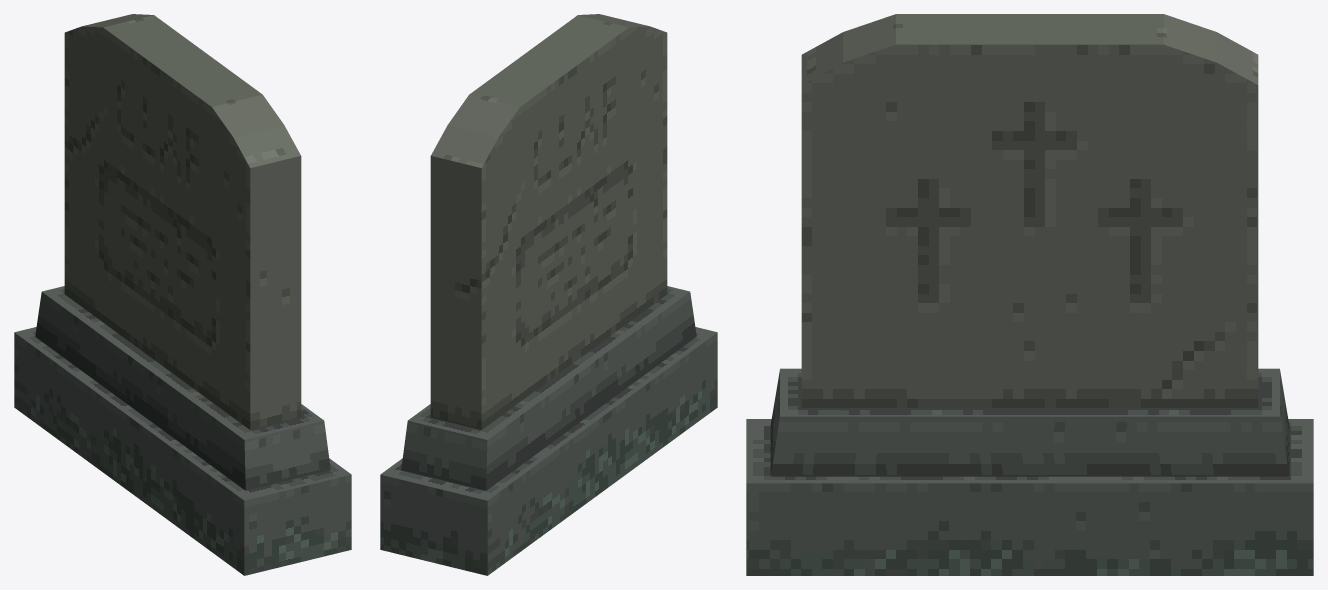
File: Grave7.glb
The picture shows the model from 3 angles, left to right: view 1: azimuth 30°, elevation 25°; view 2: azimuth 150°, elevation 25°; view 3: azimuth 270°, elevation 25°; orthographic projection. The views are drawn at different scales.
Parts seen in each view (by area): view 1: Grave7; view 2: Grave7; view 3: Grave7.
Part boxes in pixels (x1,y1,x2,y2): Grave7: [14, 14, 351, 575]; Grave7: [380, 14, 717, 575]; Grave7: [746, 14, 1313, 575].
Size of the model in its own units: 1.39 by 5.16 by 5.15.
Materials: 1 (1 with a texture image).
